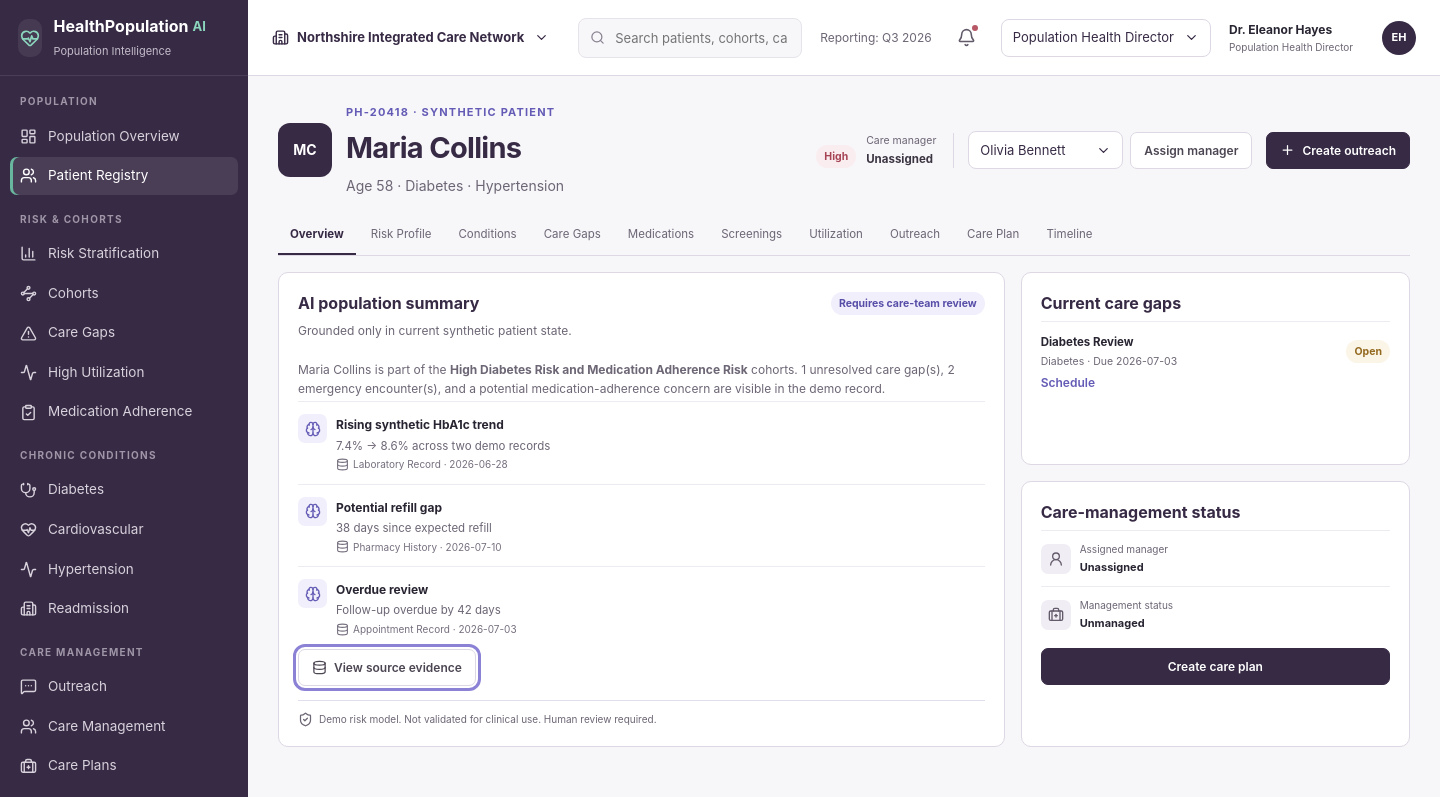
Test: route-level product QA › opens source evidence as an accessible dialog and closes with Escape
Click the button "View source evidence". click: point(387, 667)
box: [298,649,476,686]
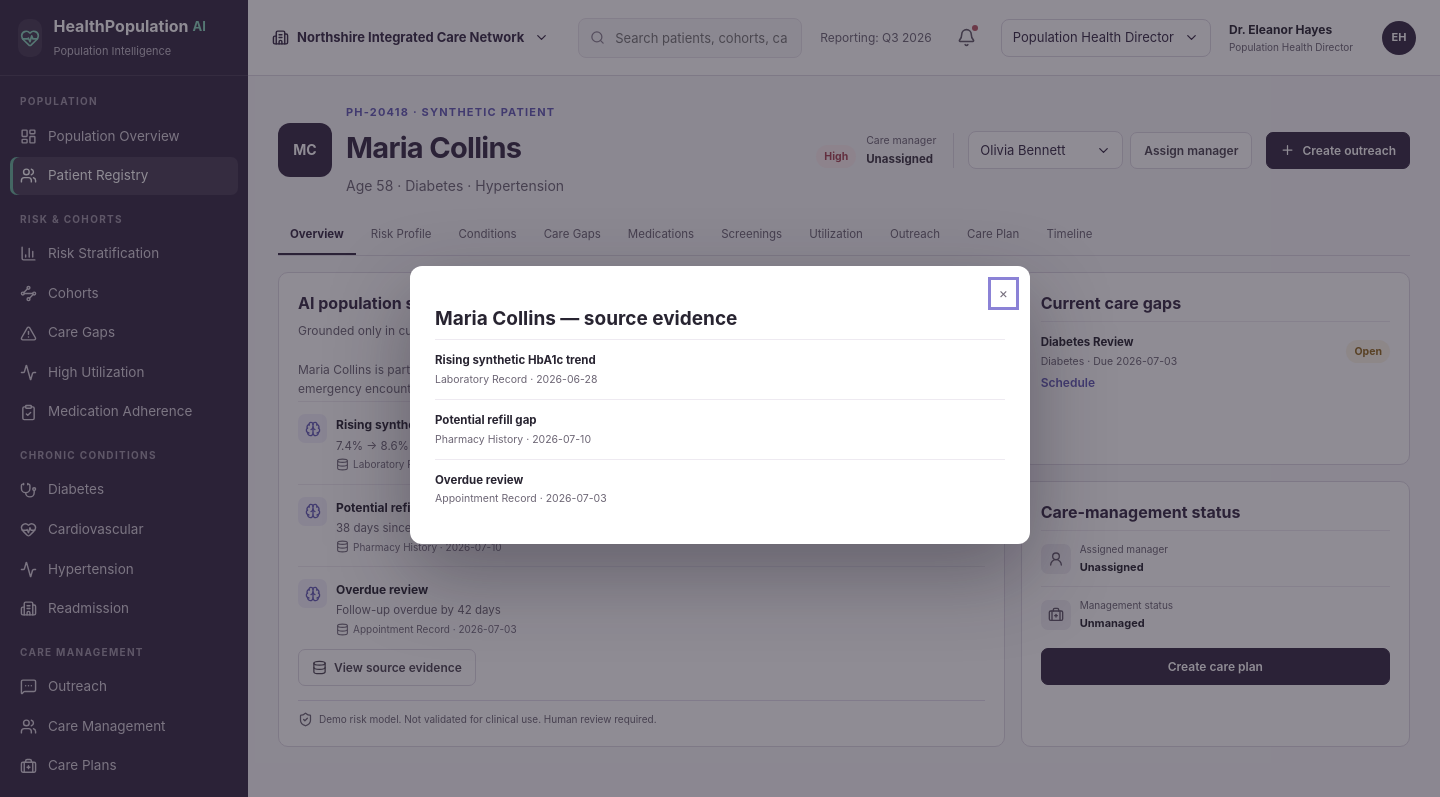
Expected: the text "Rising synthetic HbA1c trend" is shown, [435,353,596,367]
Press Escape
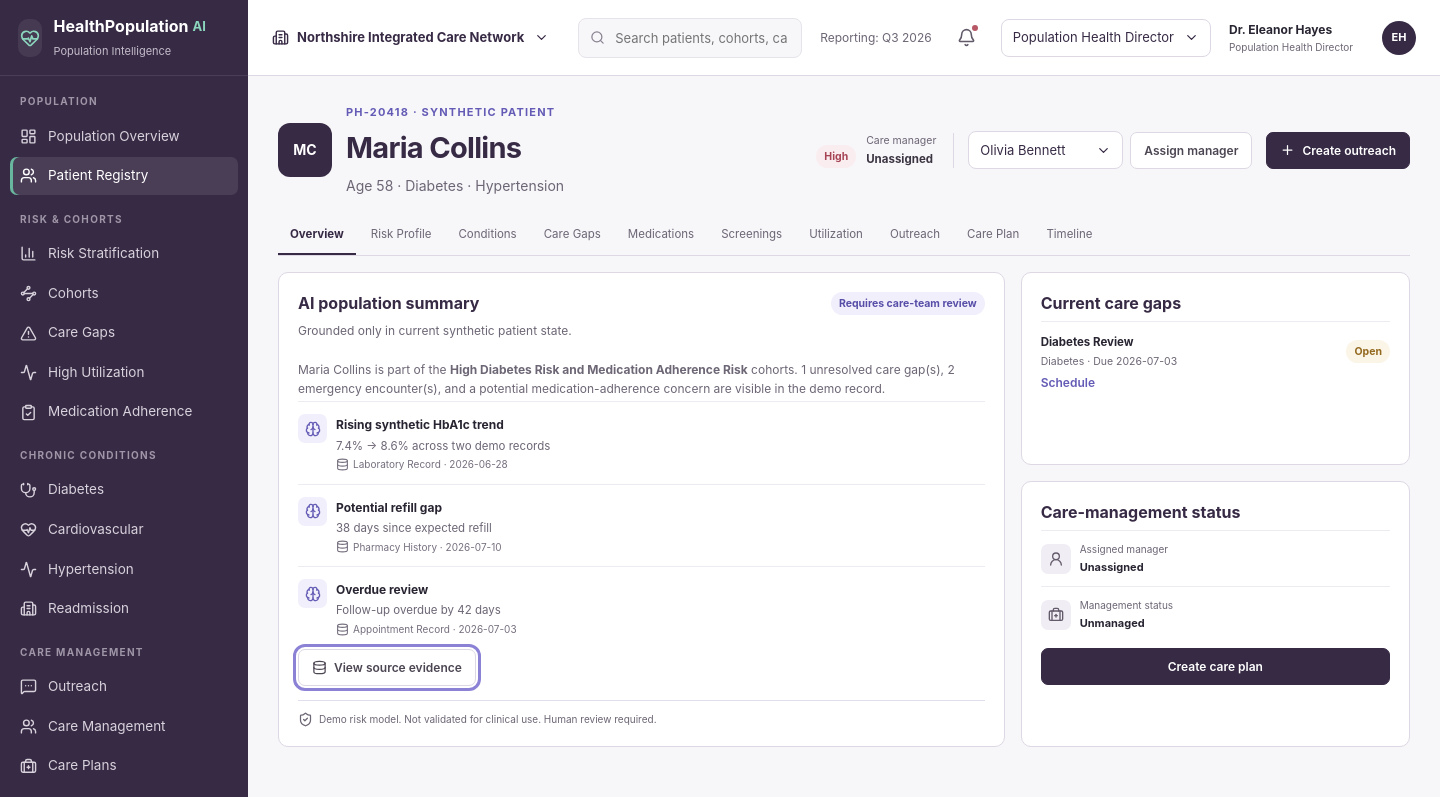
Expected: the heading "Maria Collins — source evidence" is gone
